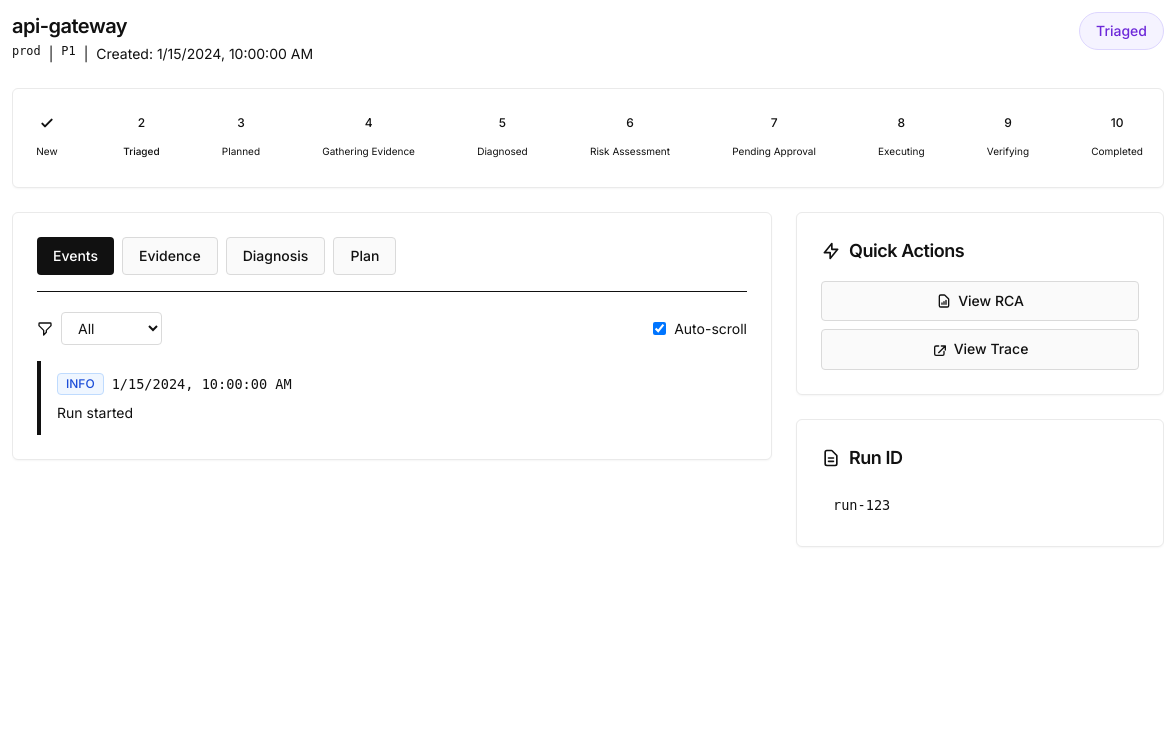
it: RunDetailPage › shows local waiting text while diagnosis has not been generated
The width and height of the screenshot is (1164, 732).
Expected: the heading "api-gateway" is shown, x1=12 y1=14 x2=127 y2=38
Click the button "Diagnosis".
click(276, 256)  # box x1=226 y1=237 x2=326 y2=275
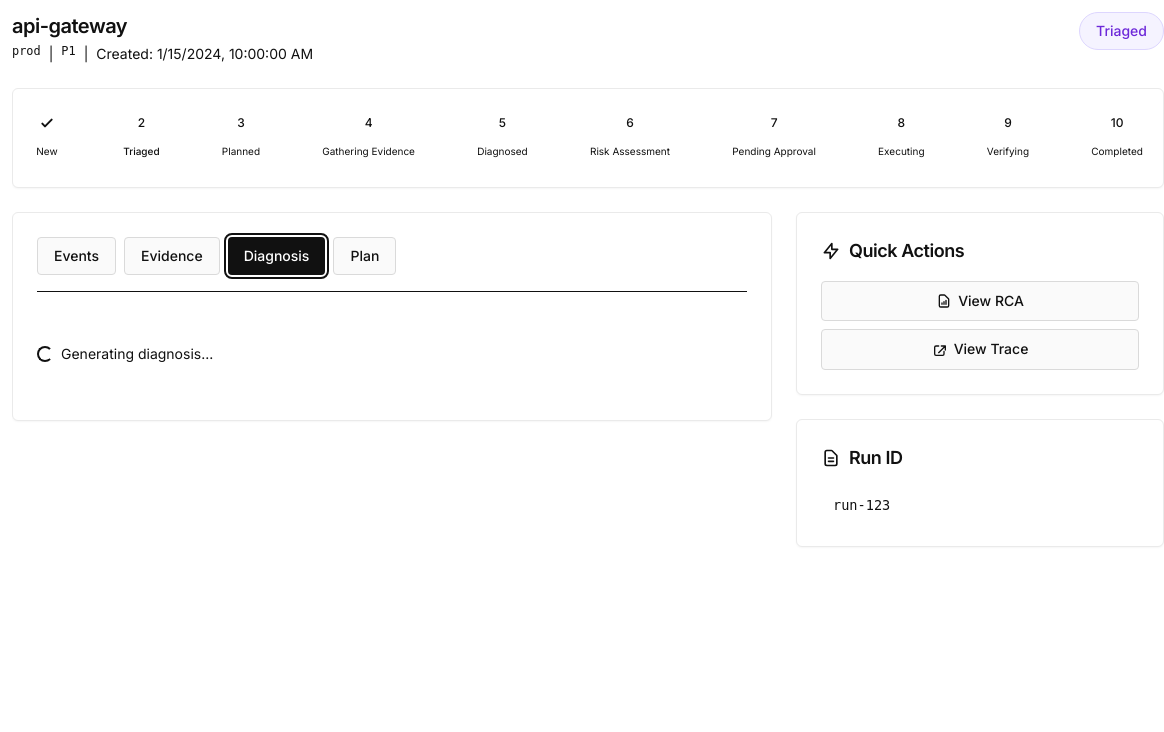
Expected: the text "Generating diagnosis..." is shown, x1=61 y1=344 x2=213 y2=364
